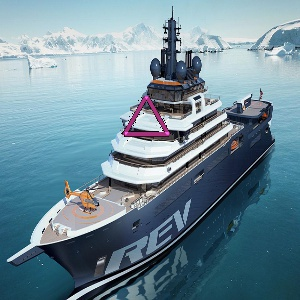triangle: (120, 92, 173, 139)
